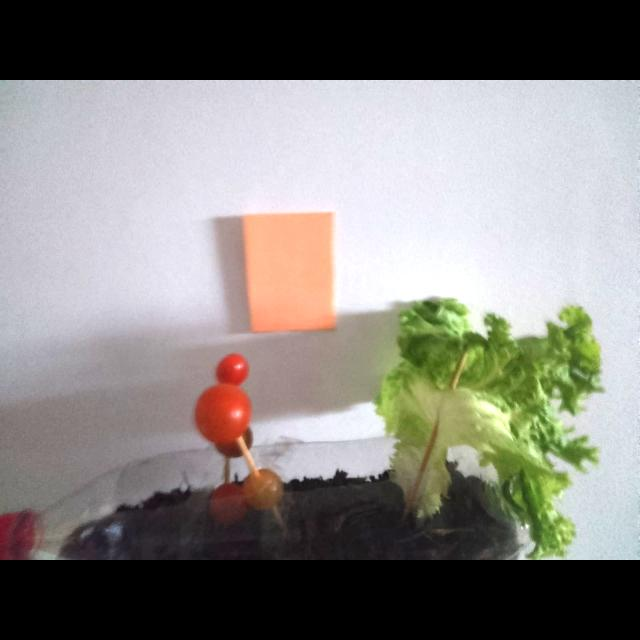card: (242, 212, 335, 331)
fruit_maturation: (243, 469, 283, 509)
fully_grown: (195, 354, 251, 443)
